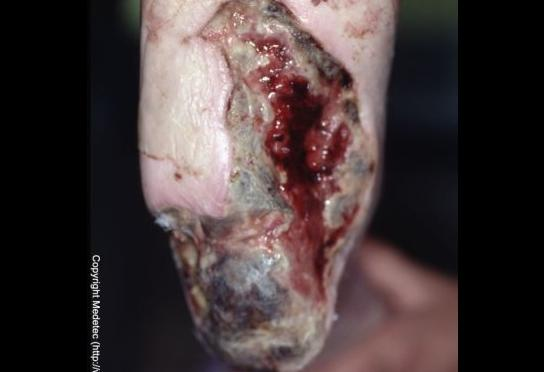NonPU: (153, 0, 377, 366)
